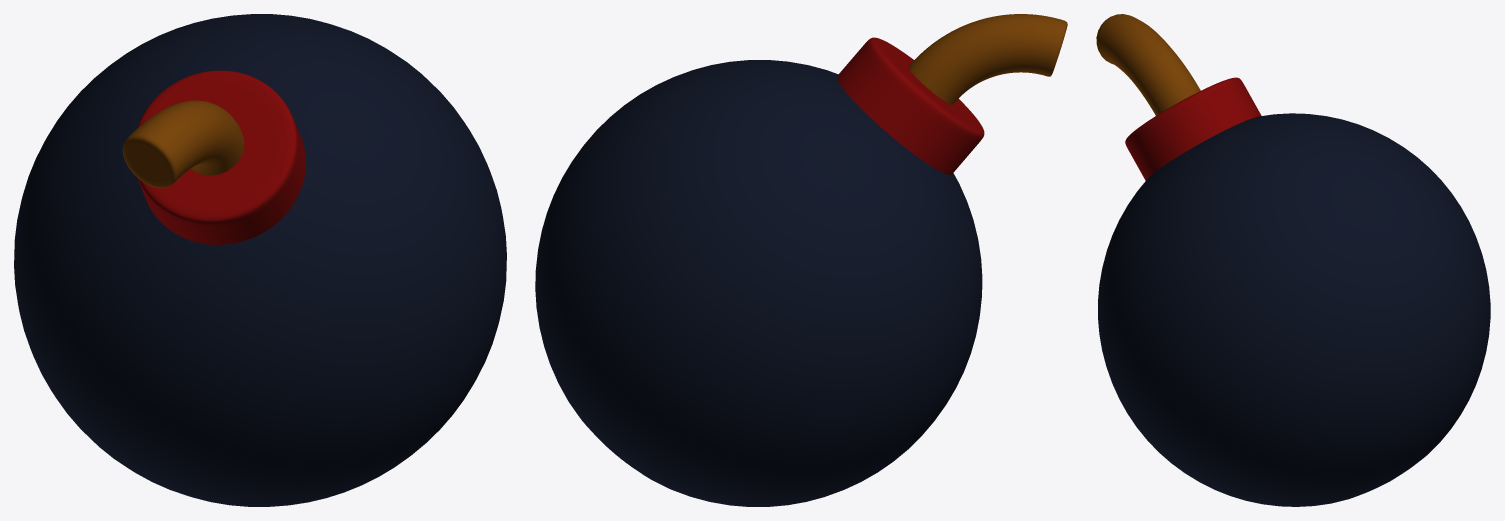
File: Bomb 1.fbx
3 renders of one model, left to right at view 1: azimuth 30°, elevation 25°; view 2: azimuth 150°, elevation 25°; view 3: azimuth 270°, elevation 25°, orthographic. The views are drawn at different scales.
Visible parts, largest first — view 1: Sphere001, Cylinder001, Arc001; view 2: Sphere001, Cylinder001, Arc001; view 3: Sphere001, Cylinder001, Arc001.
Part boxes in pixels (bbox=[...]): Sphere001: bbox=[14, 14, 506, 506]; Cylinder001: bbox=[137, 70, 305, 244]; Arc001: bbox=[122, 100, 244, 188]; Sphere001: bbox=[535, 60, 982, 506]; Cylinder001: bbox=[837, 37, 984, 174]; Arc001: bbox=[908, 14, 1067, 104]; Sphere001: bbox=[1098, 113, 1490, 506]; Cylinder001: bbox=[1125, 77, 1261, 180]; Arc001: bbox=[1096, 14, 1200, 115].
Bounding box in the file's own units: 44.91 × 47 × 42.93.
